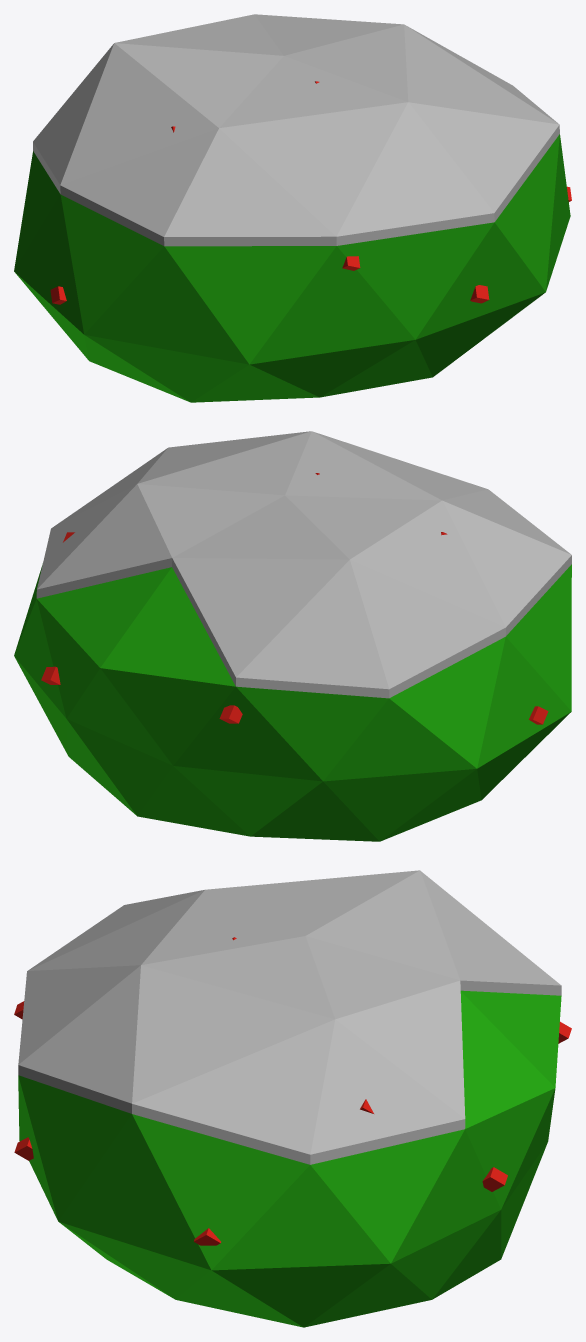
Rendered from Bush_7 Winter.fbx.
3 views of the same model, one above another, from view 1: azimuth 30°, elevation 25°; view 2: azimuth 150°, elevation 25°; view 3: azimuth 270°, elevation 25° (orthographic). The views are drawn at different scales.
Visible parts, largest first — view 1: Bush7Winter_mesh; view 2: Bush7Winter_mesh; view 3: Bush7Winter_mesh.
Part boxes in pixels (bbox=[...]): Bush7Winter_mesh: bbox=[14, 14, 571, 402]; Bush7Winter_mesh: bbox=[14, 431, 571, 841]; Bush7Winter_mesh: bbox=[14, 870, 571, 1327].
Size of the model in its own units: 183 by 104 by 166.
